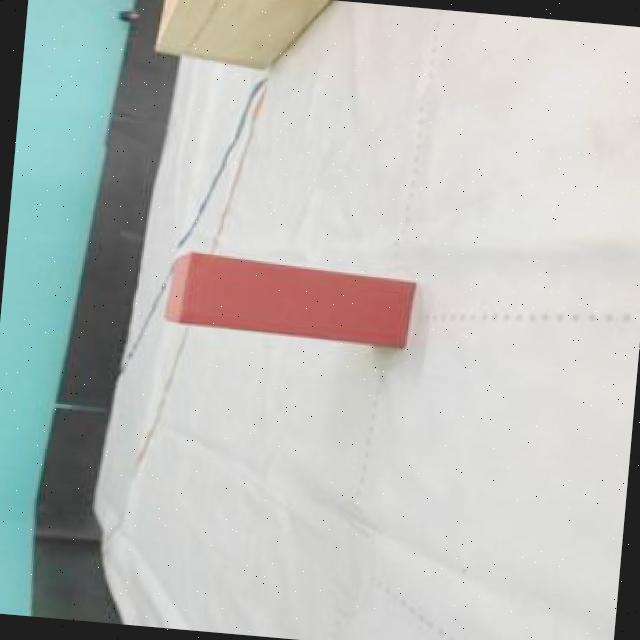redbox: (157, 249, 416, 346)
